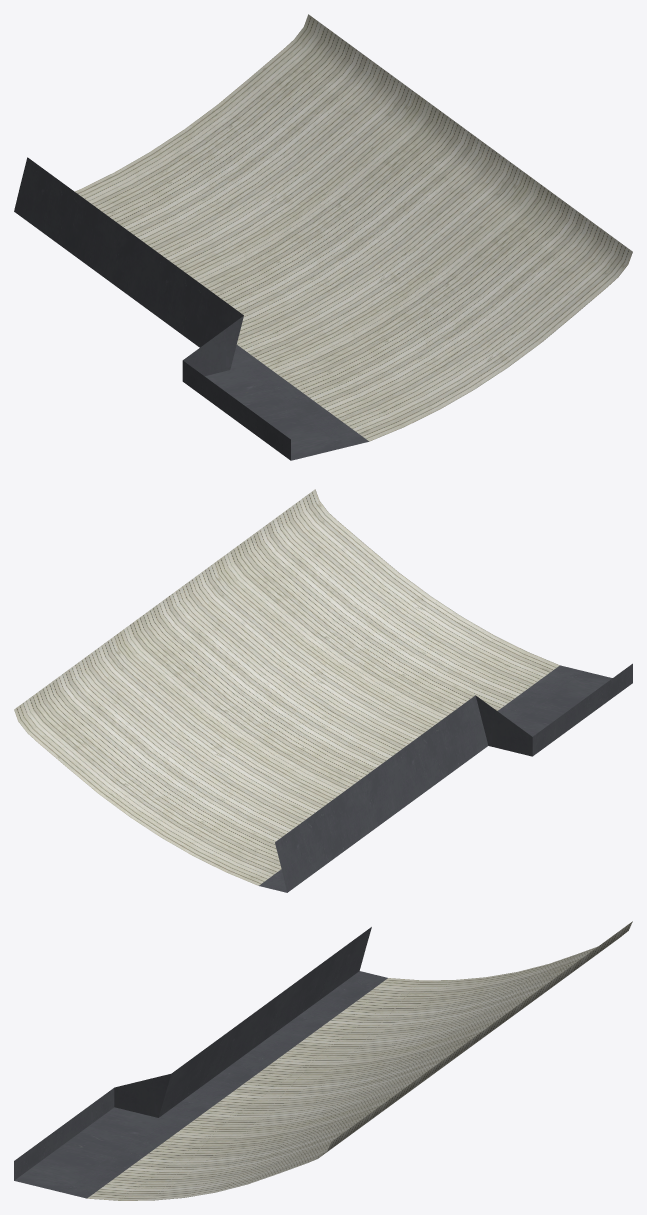
Rendered from STA20_lobbyentceiling01.FBX.
The picture shows the model from 3 angles, top to bottom: view 1: azimuth 30°, elevation 25°; view 2: azimuth 150°, elevation 25°; view 3: azimuth 330°, elevation 25°; orthographic projection. The views are drawn at different scales.
Parts seen in each view (by area): view 1: STA20_lobbyentceiling01; view 2: STA20_lobbyentceiling01; view 3: STA20_lobbyentceiling01.
Boxes of the visible parts, x1,y1,x2,y2 form: STA20_lobbyentceiling01: [14, 14, 632, 460]; STA20_lobbyentceiling01: [14, 489, 632, 892]; STA20_lobbyentceiling01: [14, 921, 632, 1200].
Size of the model in its own units: 7.96 by 2.79 by 13.09.
